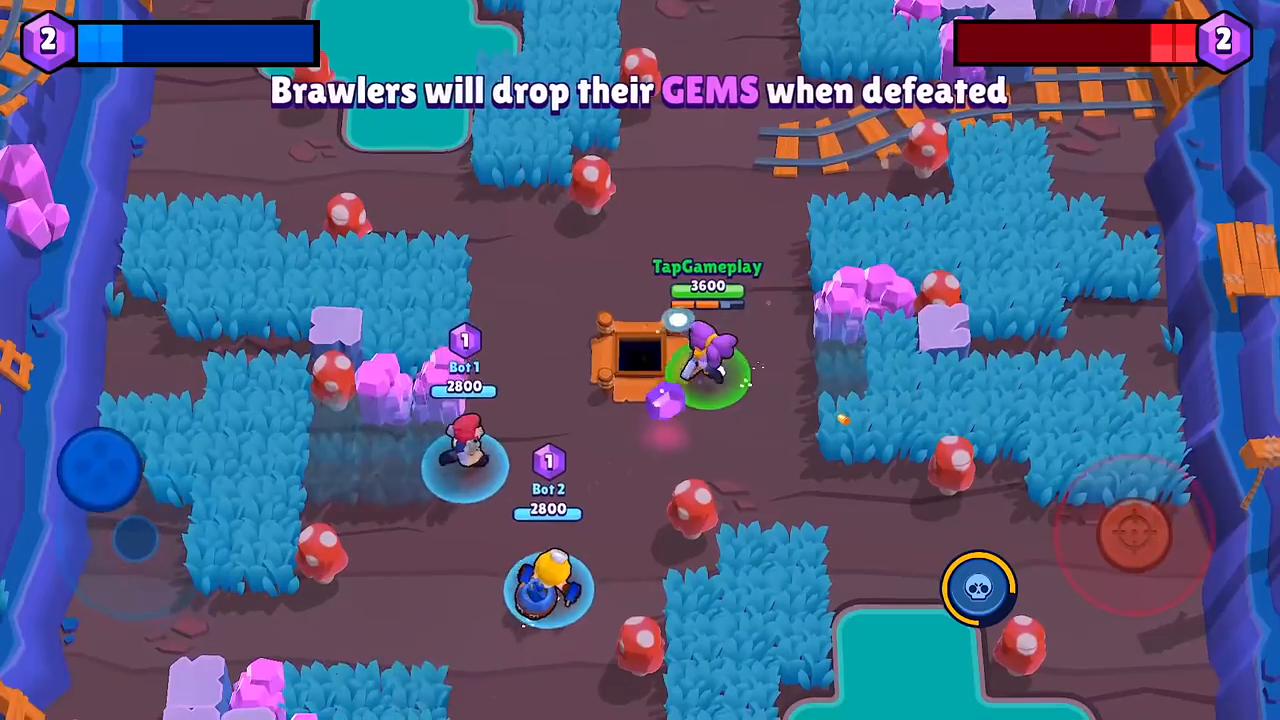move_stick: (60, 434, 139, 510)
